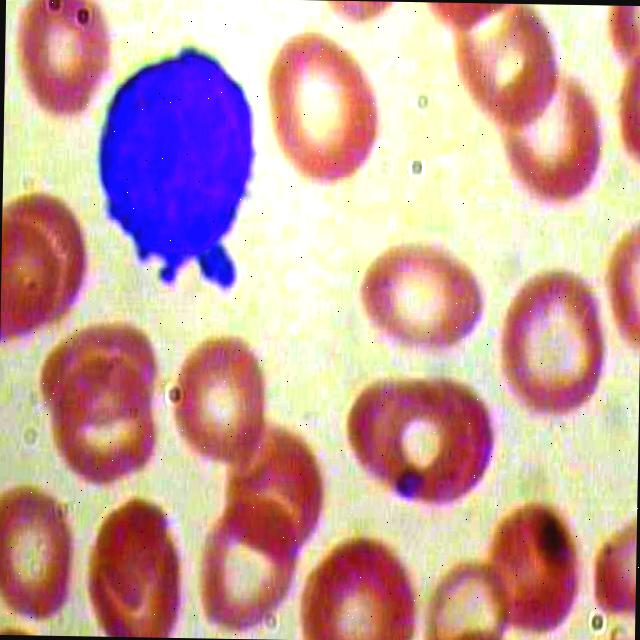RBC: (256, 25, 386, 192), (498, 260, 617, 422), (340, 372, 472, 510), (190, 493, 307, 640), (356, 243, 488, 369), (167, 330, 278, 472), (476, 498, 587, 640), (49, 359, 165, 494), (497, 69, 610, 206), (441, 2, 561, 129), (78, 497, 185, 638), (298, 529, 419, 640), (0, 483, 84, 624), (14, 0, 108, 124), (0, 222, 64, 354), (412, 1, 514, 44)
WBC: (74, 31, 276, 307)
